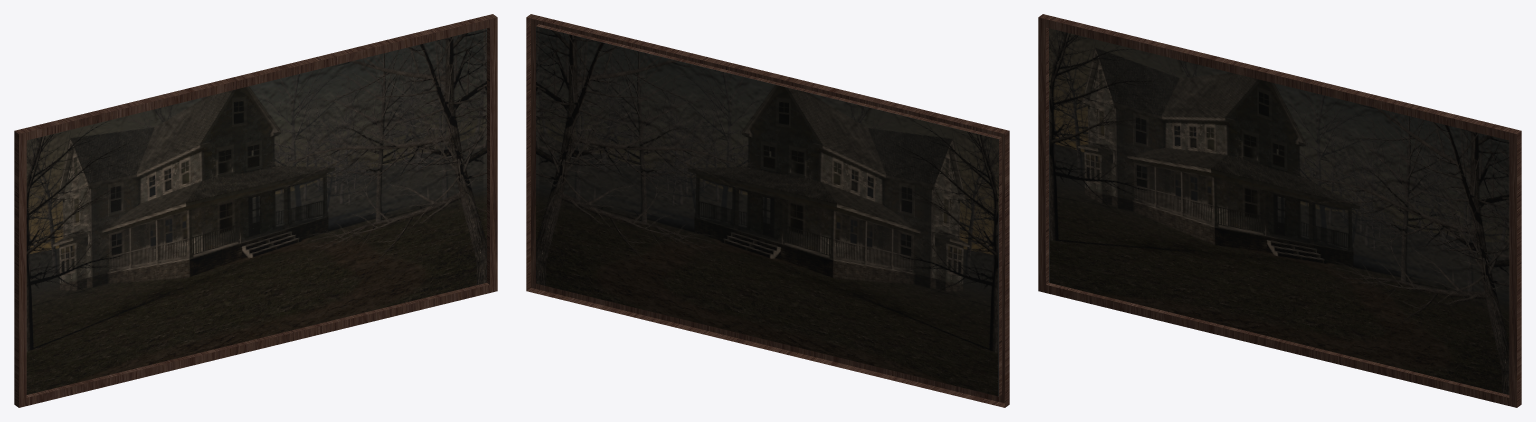
File: Tableau11.fbx
3 views of the same model, side by side, from view 1: azimuth 30°, elevation 25°; view 2: azimuth 150°, elevation 25°; view 3: azimuth 330°, elevation 25° (orthographic).
Visible parts, largest first — view 1: Asset_Tbleau_A_low2; view 2: Asset_Tbleau_A_low2; view 3: Asset_Tbleau_A_low2.
Part boxes in pixels (bbox=[...]): Asset_Tbleau_A_low2: bbox=[14, 14, 497, 407]; Asset_Tbleau_A_low2: bbox=[526, 14, 1009, 407]; Asset_Tbleau_A_low2: bbox=[1038, 14, 1521, 407].
Bounding box in the file's own units: 94.3 × 51.53 × 1.59.
1 material, 1 textured.
